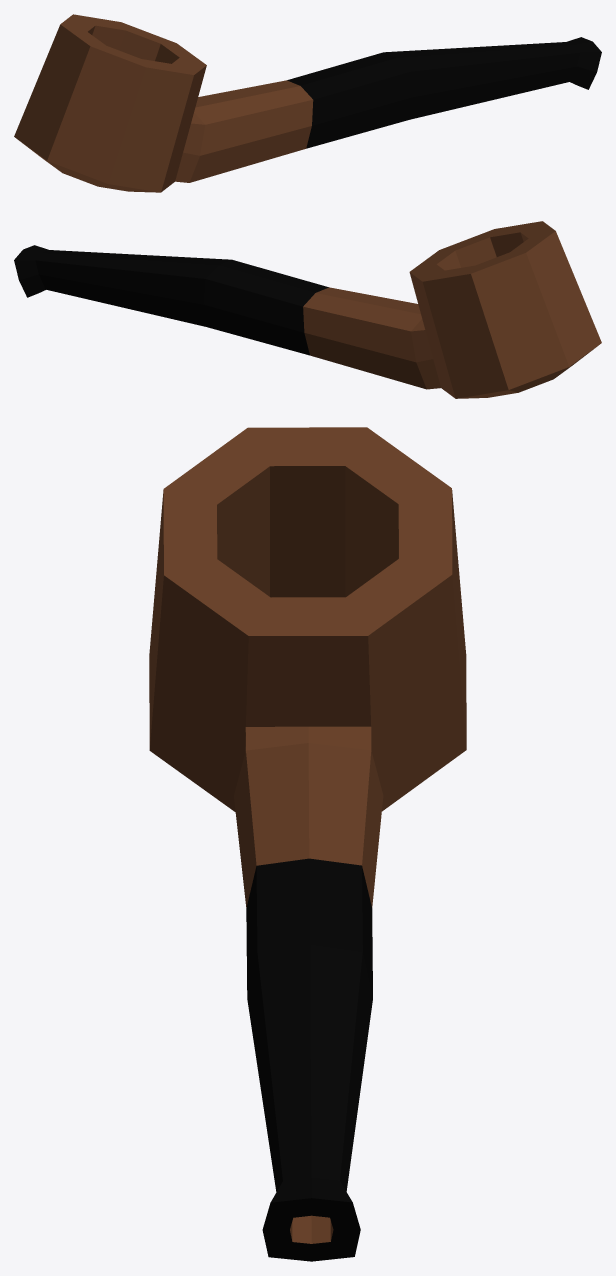
Rendered from woodpipe01.gltf.
The picture shows the model from 3 angles, top to bottom: view 1: azimuth 30°, elevation 25°; view 2: azimuth 150°, elevation 25°; view 3: azimuth 270°, elevation 25°; orthographic projection. The views are drawn at different scales.
Parts seen in each view (by area): view 1: Cylinder; view 2: Cylinder; view 3: Cylinder.
Part boxes in pixels (x1=…): Cylinder: x1=14, y1=14, x2=601, y2=192; Cylinder: x1=14, y1=221, x2=601, y2=398; Cylinder: x1=149, y1=427, x2=466, y2=1261.
Size of the model in its own units: 0.15 by 0.0441 by 0.0367.
1 material, 1 textured.
